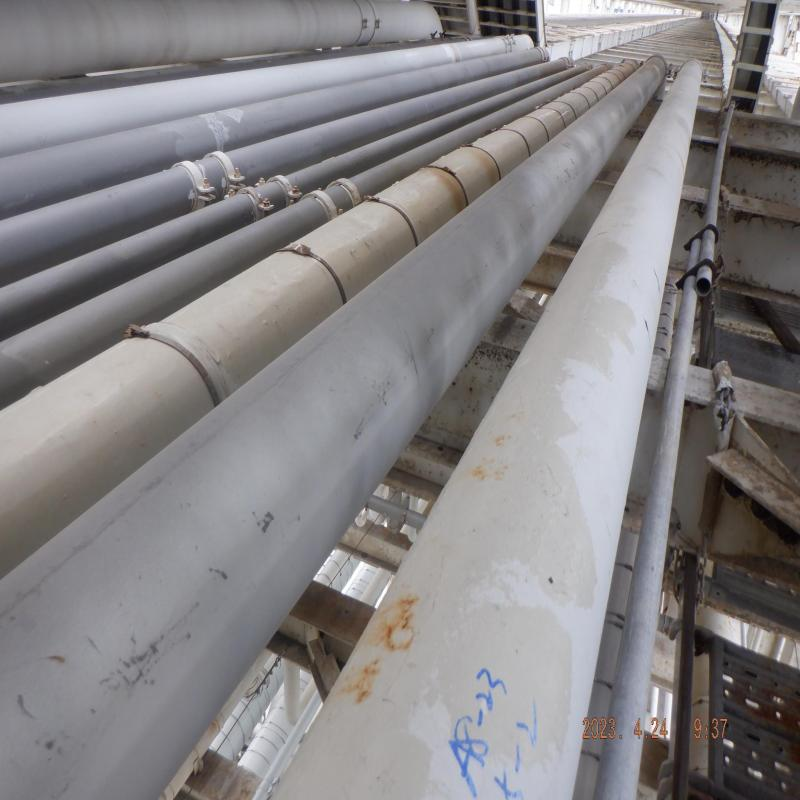corrosion: (378, 594, 425, 660)
